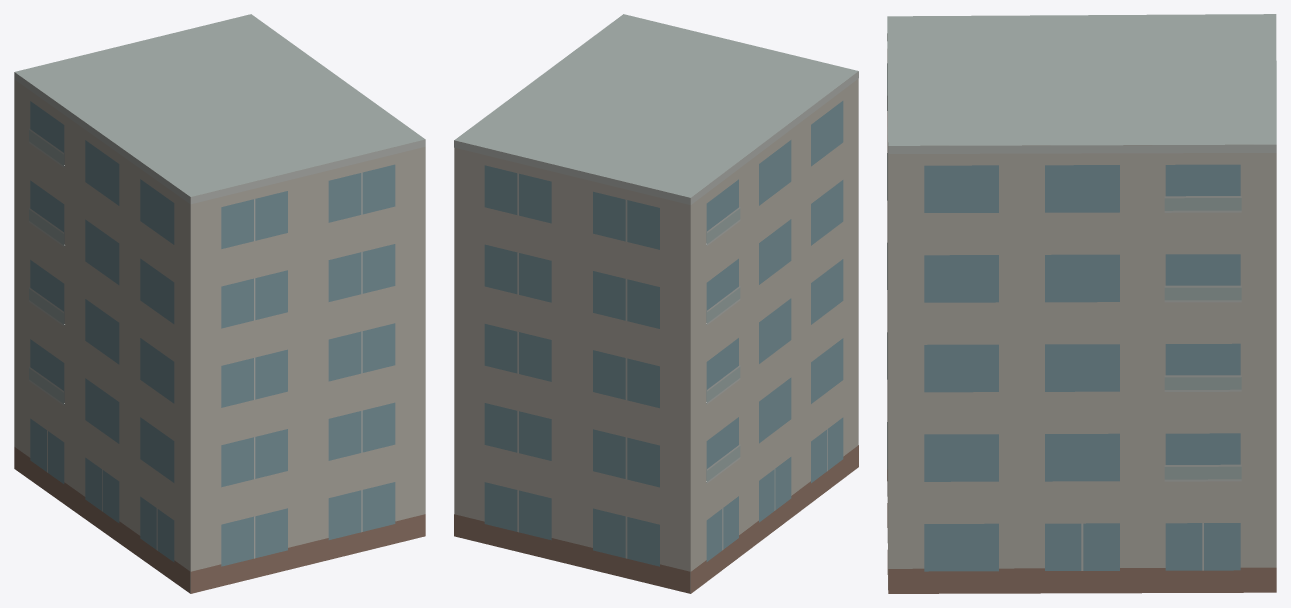
File: survey-upis-32735990.glb
The picture shows the model from 3 angles, left to right: view 1: azimuth 30°, elevation 25°; view 2: azimuth 150°, elevation 25°; view 3: azimuth 270°, elevation 25°; orthographic projection. The views are drawn at different scales.
Visible parts, largest first — view 1: survey-upis-32735990.tmp; view 2: survey-upis-32735990.tmp; view 3: survey-upis-32735990.tmp.
Boxes of the visible parts, x1,y1,x2,y2 form: survey-upis-32735990.tmp: (14,14,425,593); survey-upis-32735990.tmp: (454,14,858,593); survey-upis-32735990.tmp: (887,14,1276,593).
Size of the model in its own units: 8.41 by 13.27 by 10.47.
